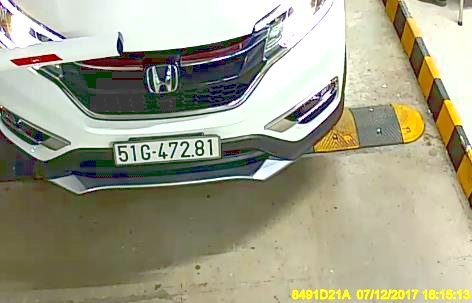plate: (111, 137, 220, 165)
